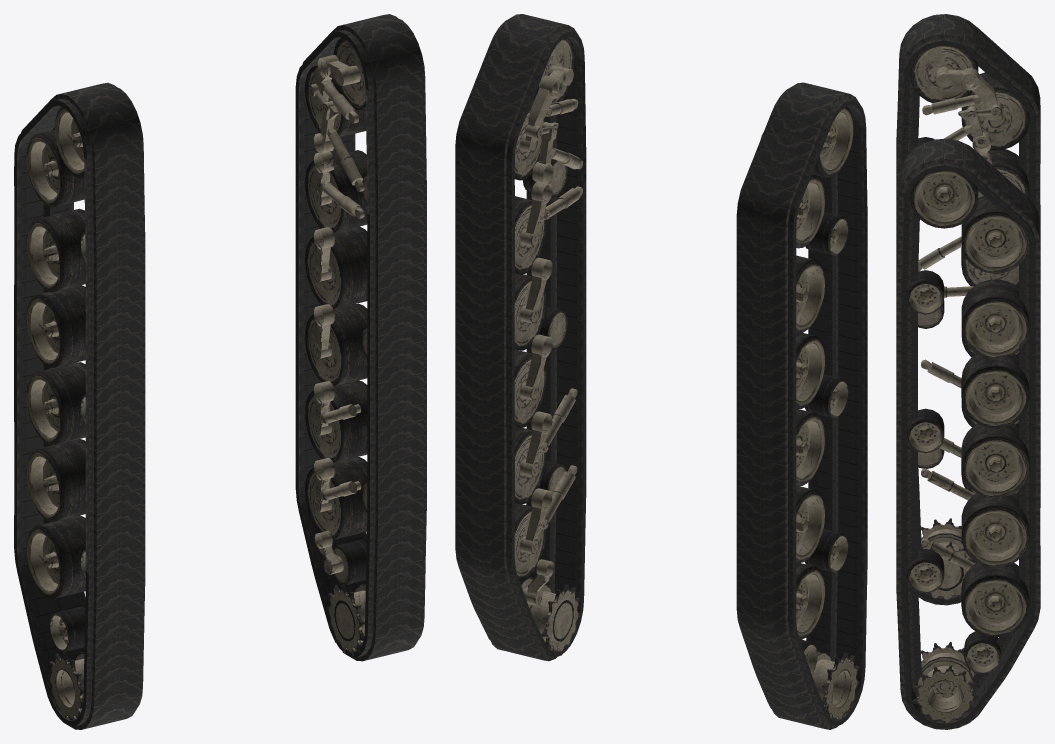
Rendered from Chassis.glb.
3 renders of one model, left to right at view 1: azimuth 30°, elevation 25°; view 2: azimuth 150°, elevation 25°; view 3: azimuth 270°, elevation 25°, orthographic. The views are drawn at different scales.
Parts seen in each view (by area): view 1: set_0_group_0, set_1_group_0, set_3_group_0, set_2_group_0; view 2: set_0_group_0, set_1_group_0, set_3_group_0, set_2_group_0; view 3: set_3_group_0, set_1_group_0, set_2_group_0, set_0_group_0.
Part boxes in pixels (bbox=[...]): set_0_group_0: bbox=[14, 82, 145, 729]; set_1_group_0: bbox=[295, 14, 426, 661]; set_3_group_0: bbox=[305, 38, 367, 656]; set_2_group_0: bbox=[26, 107, 85, 720]; set_0_group_0: bbox=[736, 82, 867, 729]; set_1_group_0: bbox=[455, 14, 586, 661]; set_3_group_0: bbox=[514, 37, 582, 656]; set_2_group_0: bbox=[761, 107, 859, 719]; set_3_group_0: bbox=[907, 170, 1029, 722]; set_1_group_0: bbox=[896, 138, 1040, 729]; set_2_group_0: bbox=[908, 45, 1029, 603]; set_0_group_0: bbox=[896, 14, 1040, 605].
Bounding box in the file's own units: 3.42 × 6.09 × 1.39.
4 materials, 4 textured.
